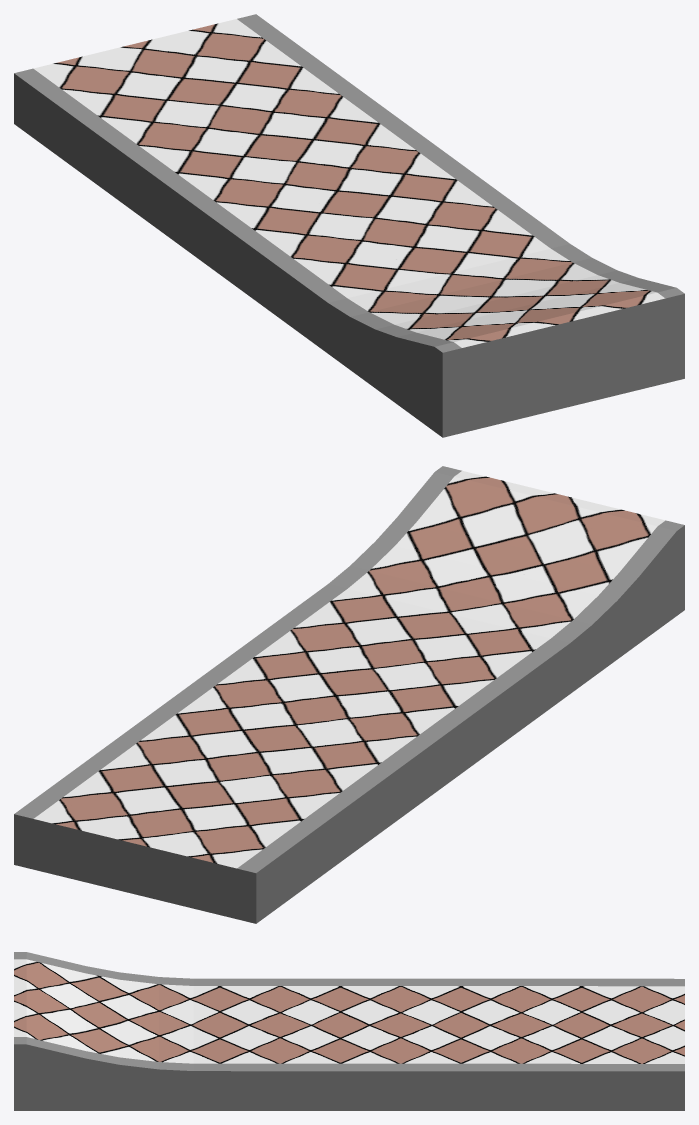
File: jumpschunk.fbx
The picture shows the model from 3 angles, top to bottom: view 1: azimuth 30°, elevation 25°; view 2: azimuth 150°, elevation 25°; view 3: azimuth 270°, elevation 25°; orthographic projection. The views are drawn at different scales.
Parts seen in each view (by area): view 1: jumpschunk; view 2: jumpschunk; view 3: jumpschunk.
Part boxes in pixels (bbox=[...]): jumpschunk: bbox=[14, 14, 684, 437]; jumpschunk: bbox=[14, 466, 684, 923]; jumpschunk: bbox=[14, 952, 684, 1110].
Bounding box in the file's own units: 25 × 76.66 × 8.38.
